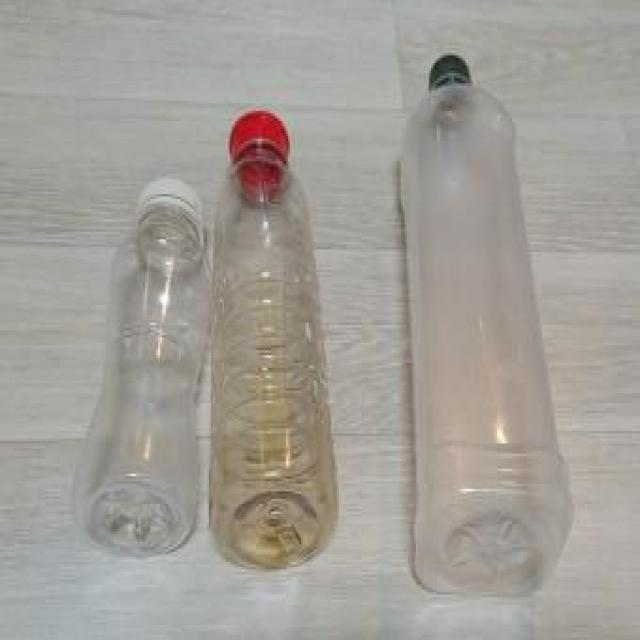bottle: (389, 42, 588, 619)
